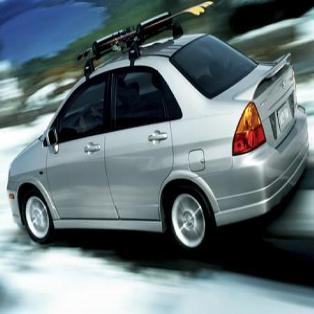Auto: (6, 11, 310, 262)
